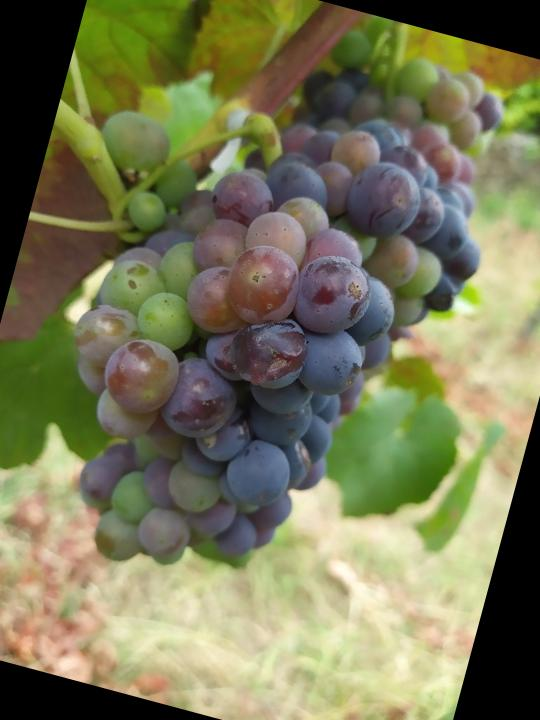grape: (14, 68, 447, 620)
